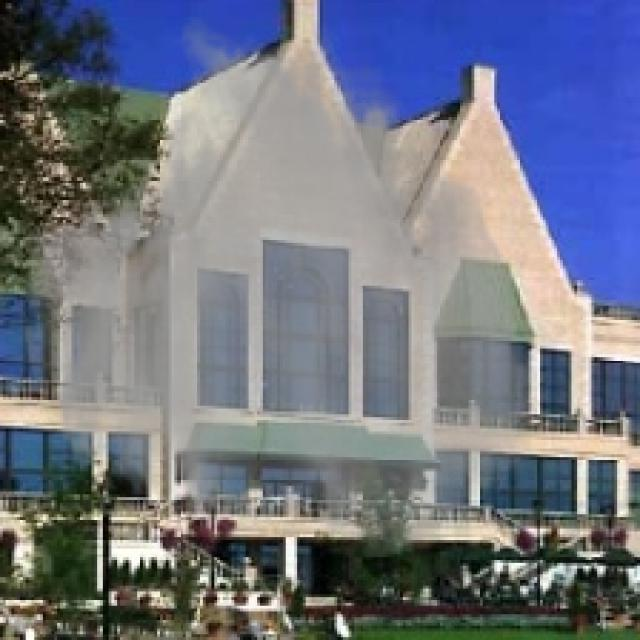smoke: (17, 14, 543, 563)
